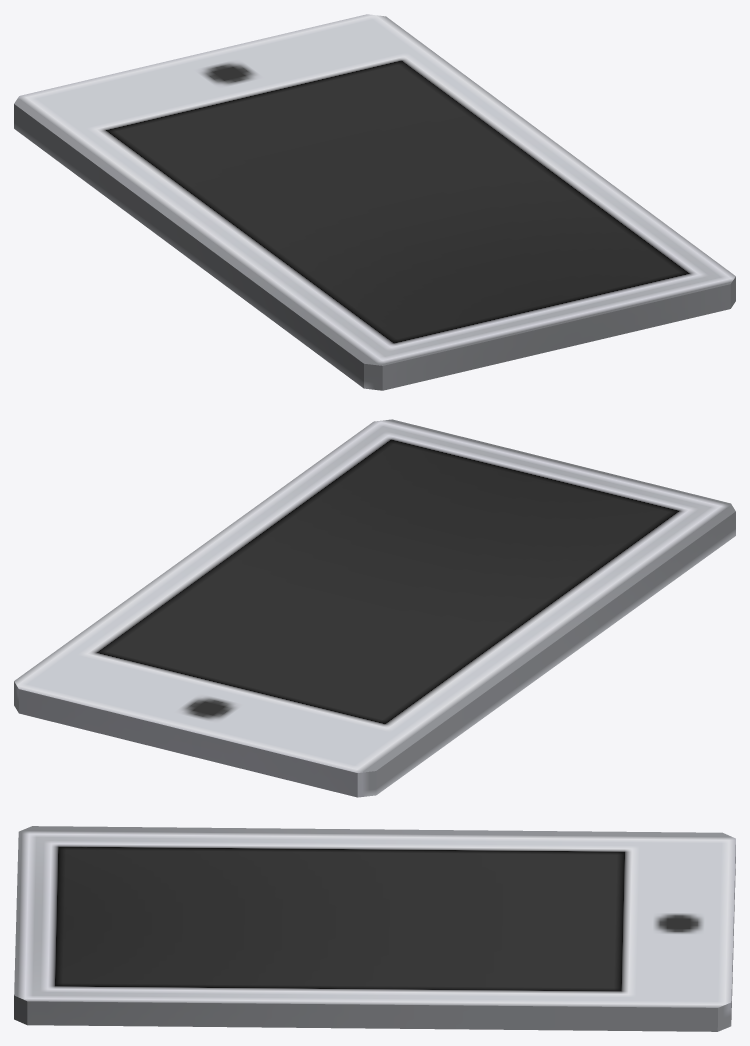
The model's file is MaLuBian_01_shouji_01.FBX.
3 renders of one model, top to bottom at view 1: azimuth 30°, elevation 25°; view 2: azimuth 150°, elevation 25°; view 3: azimuth 270°, elevation 25°, orthographic. The views are drawn at different scales.
Parts seen in each view (by area): view 1: MaLuBian_01_shouji_01; view 2: MaLuBian_01_shouji_01; view 3: MaLuBian_01_shouji_01.
Boxes of the visible parts, box(x1,y1,x2,y2) form: MaLuBian_01_shouji_01: box(14, 14, 735, 390); MaLuBian_01_shouji_01: box(14, 419, 735, 797); MaLuBian_01_shouji_01: box(14, 826, 735, 1031).
Bounding box in the file's own units: 38.15 × 2.82 × 65.48.
